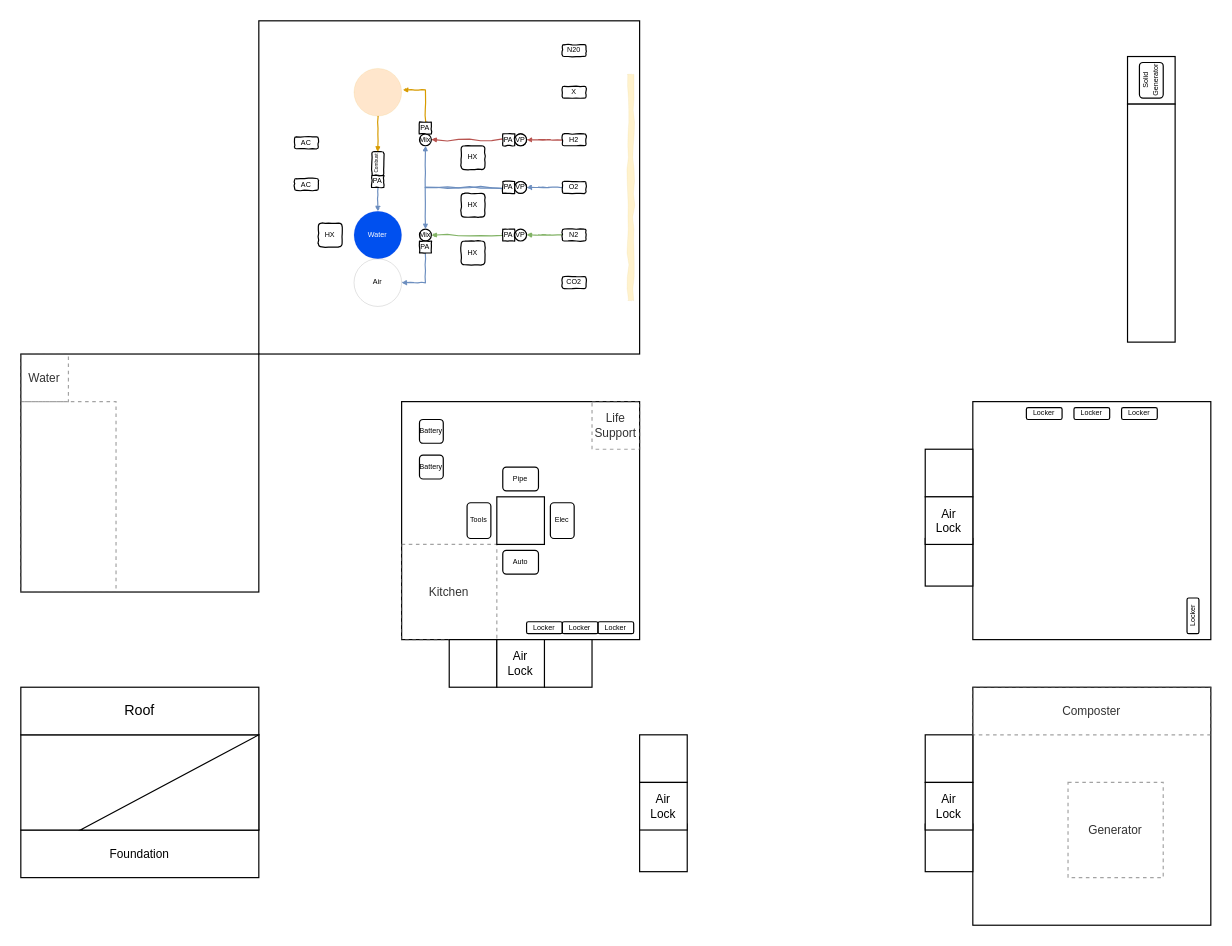
Some shapes in this 1232 by 946 pixel diagram are drawn without their labels. Here are the shapes that lost their labels. From the top down, the centre of each, then its label:
At (x=377, y=91): "Fuel".
At (x=1150, y=222): "Wind Turbines".
At (x=68, y=496): "Hydroponics".
At (x=169, y=782): "Stairs".
